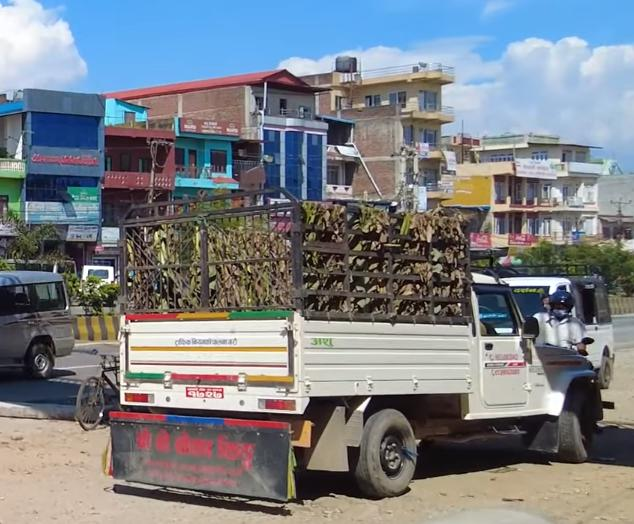SUV: (494, 248, 634, 404)
transport_vehicle: (95, 182, 605, 498)
van: (0, 249, 77, 393)
